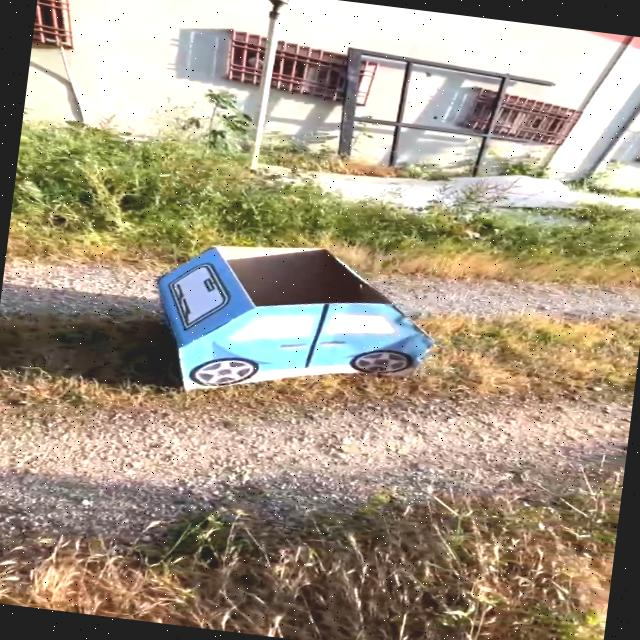blue_car: (89, 203, 473, 440)
